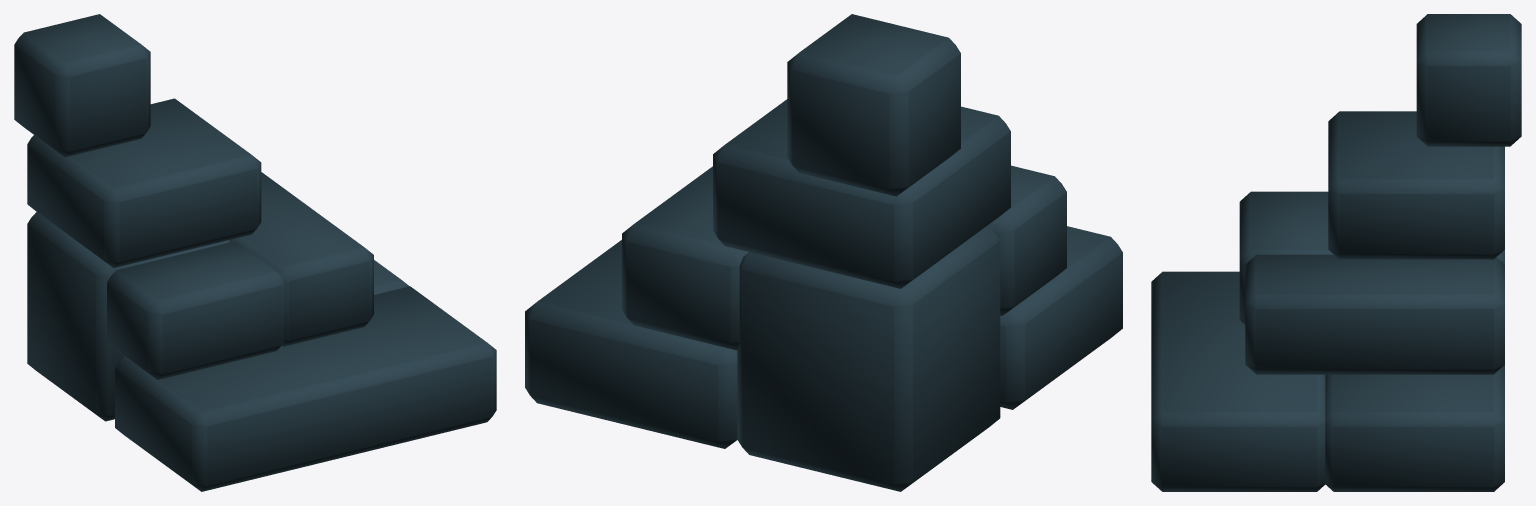
File: stair_corner_convex_hue_4.fbx
The picture shows the model from 3 angles, left to right: view 1: azimuth 30°, elevation 25°; view 2: azimuth 150°, elevation 25°; view 3: azimuth 270°, elevation 25°; orthographic projection. The views are drawn at different scales.
Parts seen in each view (by area): view 1: stair_corner_convex_hue_4; view 2: stair_corner_convex_hue_4; view 3: stair_corner_convex_hue_4.
Part boxes in pixels (<box>): stair_corner_convex_hue_4: <box>14,14,496,491</box>; stair_corner_convex_hue_4: <box>525,14,1122,491</box>; stair_corner_convex_hue_4: <box>1151,14,1521,491</box>.
Bounding box in the file's own units: 102 × 105 × 105.
